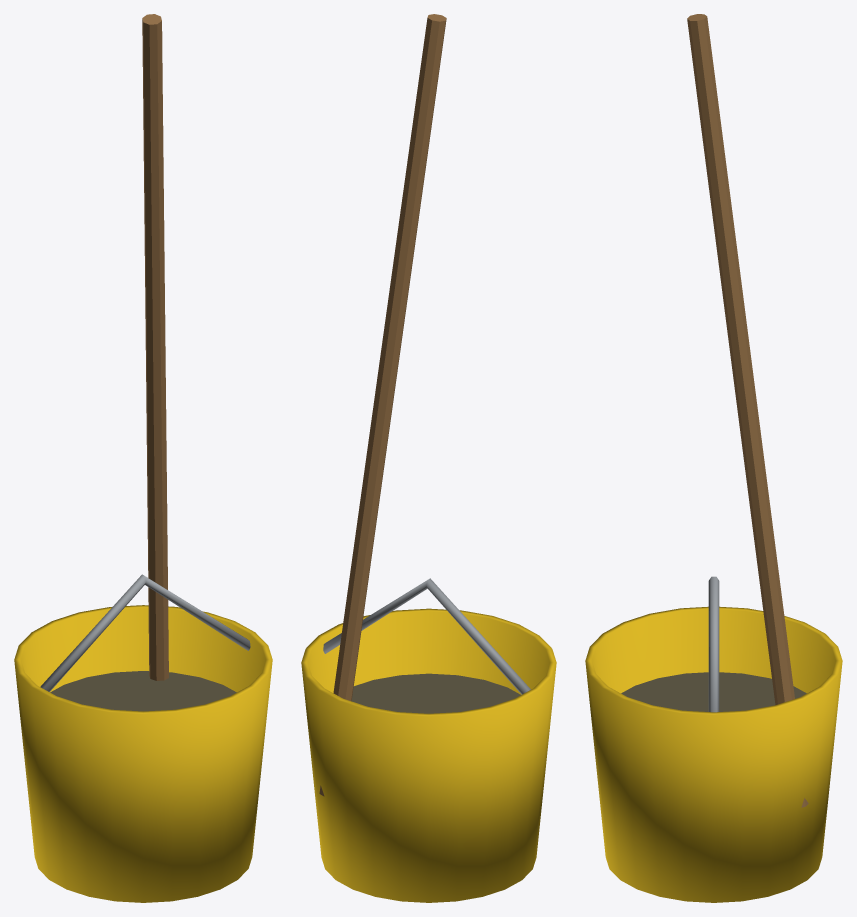
The model's file is mop_bucket.glb.
3 views of the same model, side by side, from view 1: azimuth 30°, elevation 25°; view 2: azimuth 150°, elevation 25°; view 3: azimuth 270°, elevation 25° (orthographic).
Visible parts, largest first — view 1: mop_bucket; view 2: mop_bucket; view 3: mop_bucket.
Boxes of the visible parts, x1=… form: mop_bucket: x1=14, y1=14, x2=272, y2=902; mop_bucket: x1=301, y1=14, x2=556, y2=902; mop_bucket: x1=585, y1=14, x2=842, y2=902.
Size of the model in its own units: 0.38 by 1.37 by 0.38.
